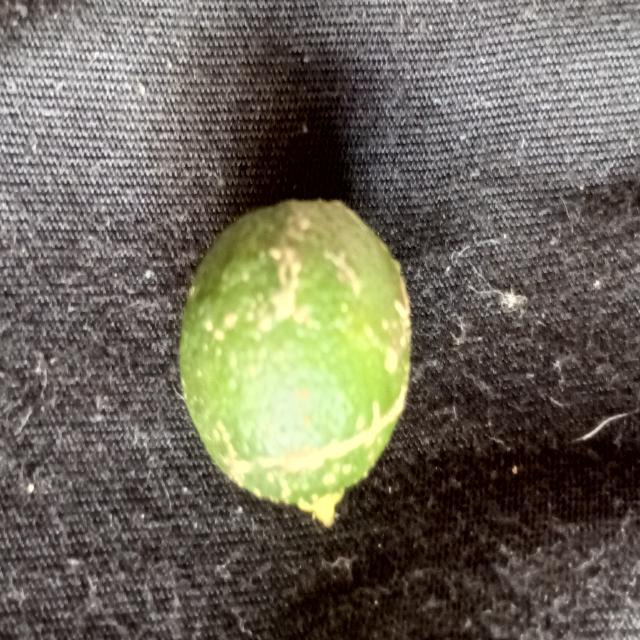scab: (178, 195, 425, 519)
